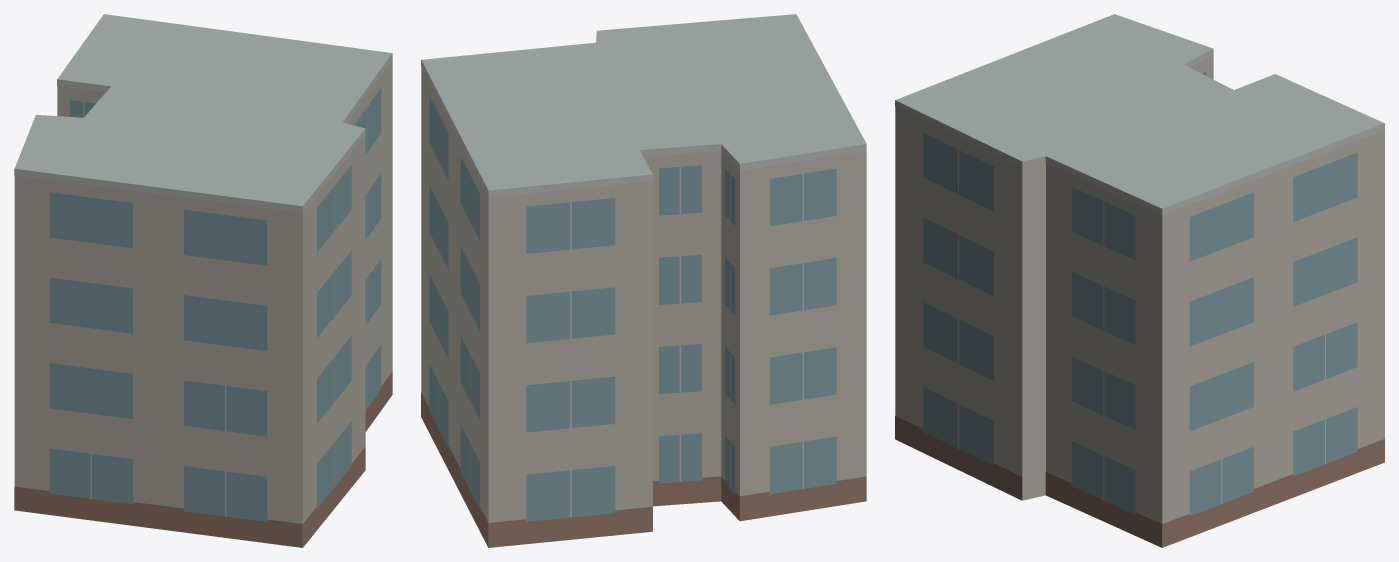
Rendered from survey-upis-32624896.glb.
3 views of the same model, side by side, from view 1: azimuth 30°, elevation 25°; view 2: azimuth 150°, elevation 25°; view 3: azimuth 270°, elevation 25° (orthographic). The views are drawn at different scales.
Parts seen in each view (by area): view 1: survey-upis-32624896.tmp; view 2: survey-upis-32624896.tmp; view 3: survey-upis-32624896.tmp.
Part boxes in pixels (bbox=[...]): survey-upis-32624896.tmp: bbox=[14, 14, 392, 547]; survey-upis-32624896.tmp: bbox=[421, 14, 866, 547]; survey-upis-32624896.tmp: bbox=[895, 14, 1384, 547].
Bounding box in the file's own units: 15.77 × 12.8 × 16.76.
